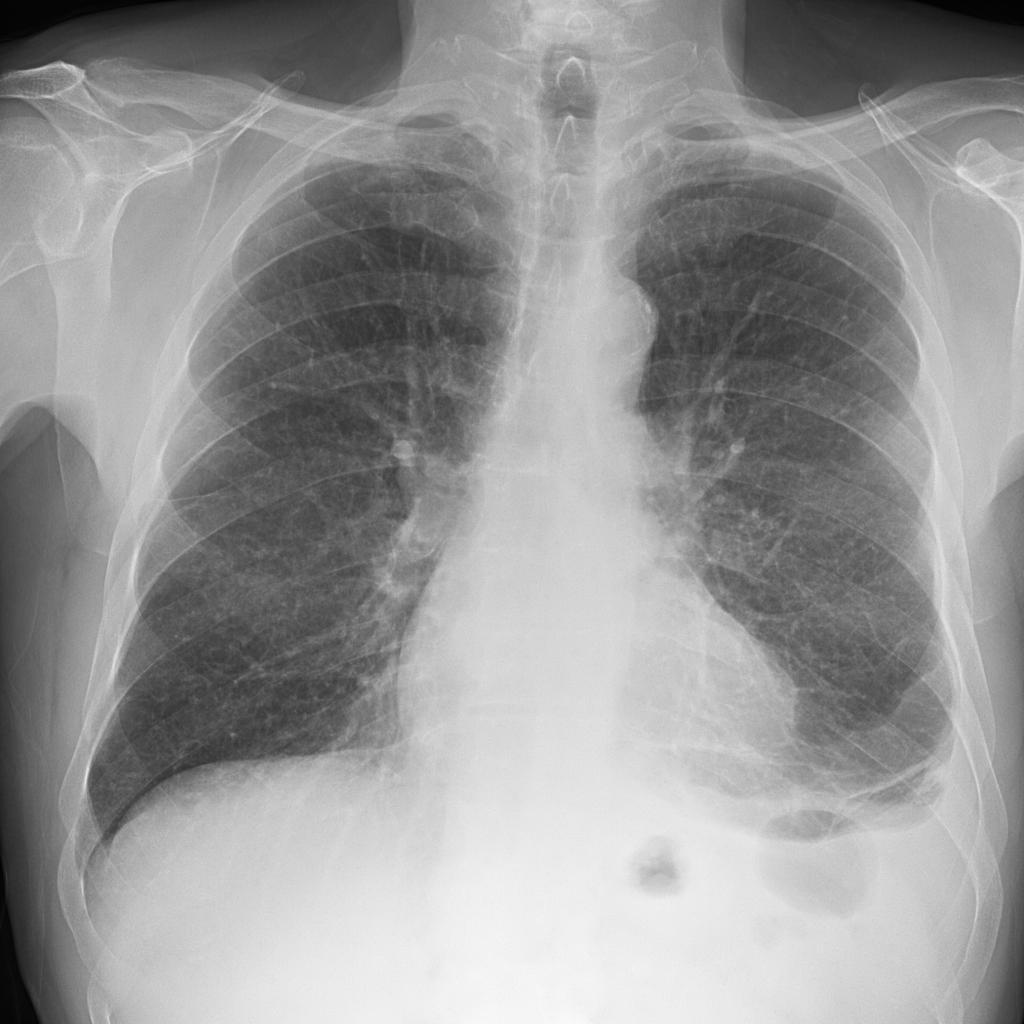Nodule: (81, 249, 109, 286)
